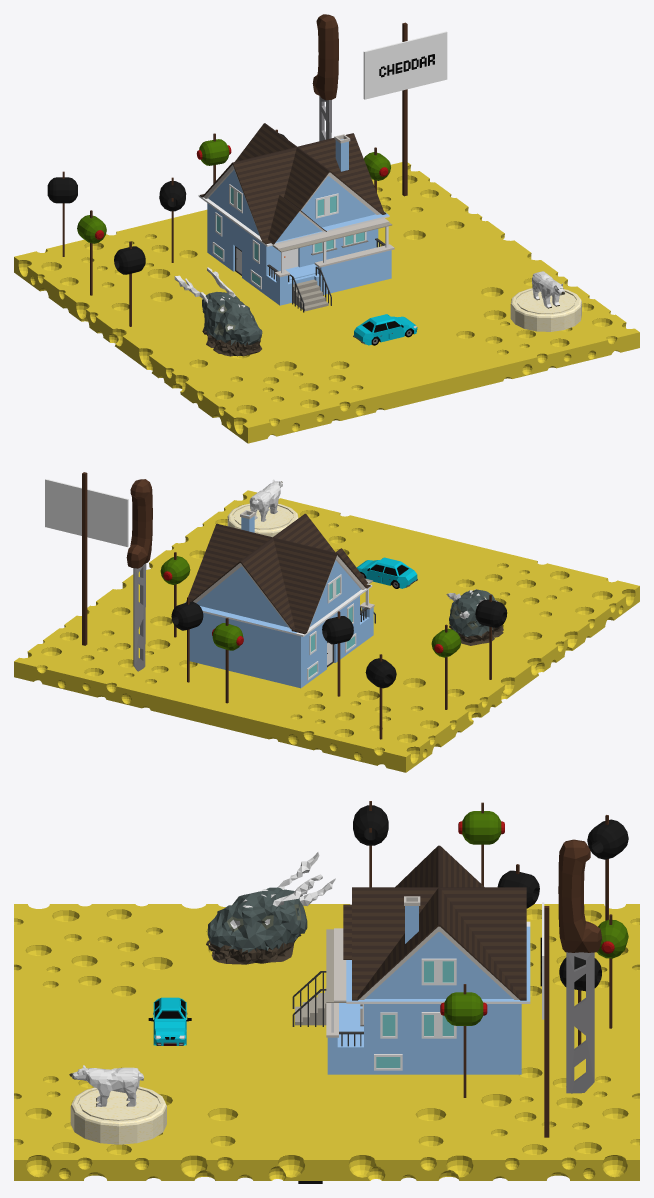
3 views of the same model, one above another, from view 1: azimuth 30°, elevation 25°; view 2: azimuth 150°, elevation 25°; view 3: azimuth 270°, elevation 25° (orthographic). The views are drawn at different scales.
Parts seen in each view (by area): view 1: Cube.022, Cube.1594, Cube.023, OBJRANDOM_METEORITE, Cylinder.016, Cube.024, VEHICLES_CAR, Sphere.017, Sphere.016, Sphere.020, Sphere.018, ANIMAL_OSO_POLAR (+2 smaller); view 2: Cube.022, Cube.1594, Cube.023, Cube.024, OBJRANDOM_METEORITE, VEHICLES_CAR, Cylinder.016, Sphere.020, Sphere.016, Sphere.022, Sphere.017, Sphere.021 (+3 smaller); view 3: Cube.022, Cube.1594, OBJRANDOM_METEORITE, Cube.024, Cylinder.016, Cube.023, ANIMAL_OSO_POLAR, VEHICLES_CAR, Sphere.019, Sphere.016, Sphere.018, Sphere.017 (+3 smaller).
Part boxes in pixels (x1,y1,x2,y2): Cube.022: (14,162,639,443); Cube.1594: (198,123,394,312); Cube.023: (363,22,447,196); OBJRANDOM_METEORITE: (174,267,262,356); Cylinder.016: (510,288,581,331); Cube.024: (312,14,338,141); VEHICLES_CAR: (353,314,417,345); Sphere.017: (114,241,145,326); Sphere.016: (47,171,77,256); Sphere.020: (159,177,186,262); Sphere.018: (77,210,106,295); ANIMAL_OSO_POLAR: (532,271,565,308); Cube.022: (14,490,639,772); Cube.1594: (185,510,375,688); Cube.023: (45,472,128,645); Cube.024: (126,479,152,671); OBJRANDOM_METEORITE: (446,589,503,645); VEHICLES_CAR: (356,557,417,588); Cylinder.016: (227,503,298,537); Sphere.020: (322,611,353,696); Sphere.016: (365,654,396,739); Sphere.022: (212,618,243,703); Sphere.017: (475,594,507,679); Sphere.021: (171,597,203,682); Cube.022: (14,904,639,1180); Cube.1594: (292,845,530,1074); OBJRANDOM_METEORITE: (206,852,335,964); Cube.024: (558,839,601,1093); Cylinder.016: (70,1086,166,1144); Cube.023: (540,902,549,1137); ANIMAL_OSO_POLAR: (69,1065,143,1106); VEHICLES_CAR: (148,997,191,1045); Sphere.019: (440,984,487,1097); Sphere.016: (587,815,628,920); Sphere.018: (458,802,504,885); Sphere.017: (353,801,388,887).
Size of the model in its own units: 3917 by 2015 by 4000.
38 materials, 3 textured.
